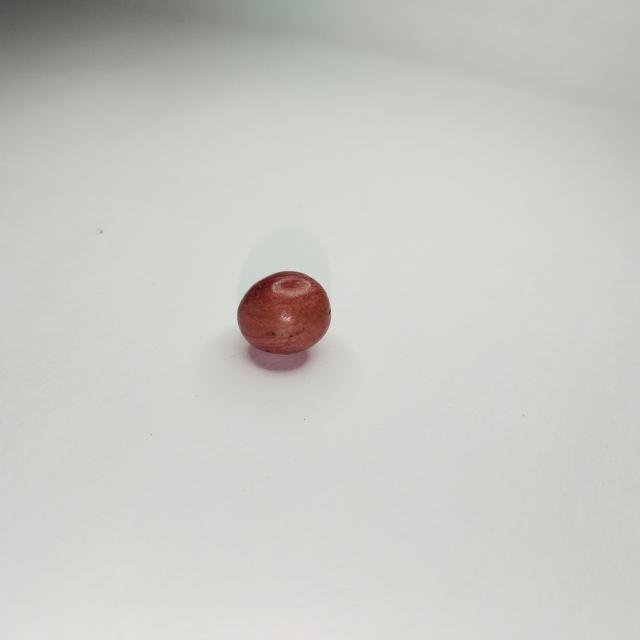Sano: (238, 272, 330, 355)
